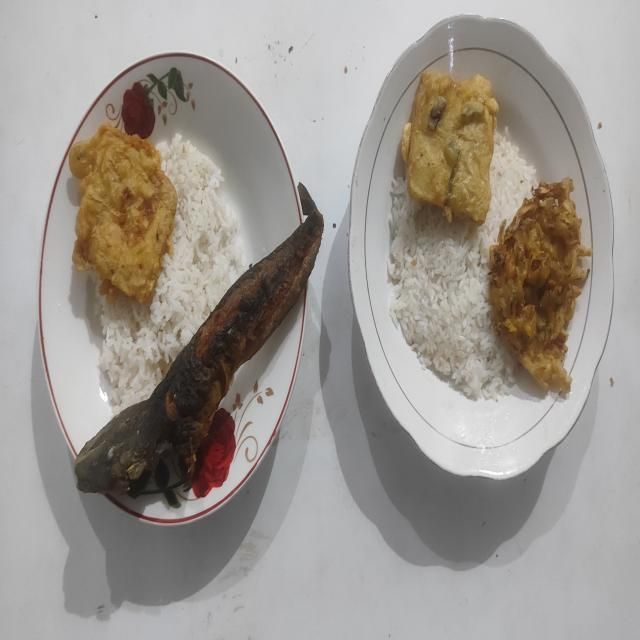nasi_putih: (94, 133, 248, 413), (388, 128, 536, 402)
